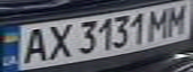1: (127, 10, 151, 45), (93, 16, 115, 52)
3: (75, 18, 96, 55), (112, 12, 133, 48)
A: (15, 25, 51, 64)
M: (160, 1, 193, 37), (145, 6, 175, 40)
X: (42, 21, 75, 61)
